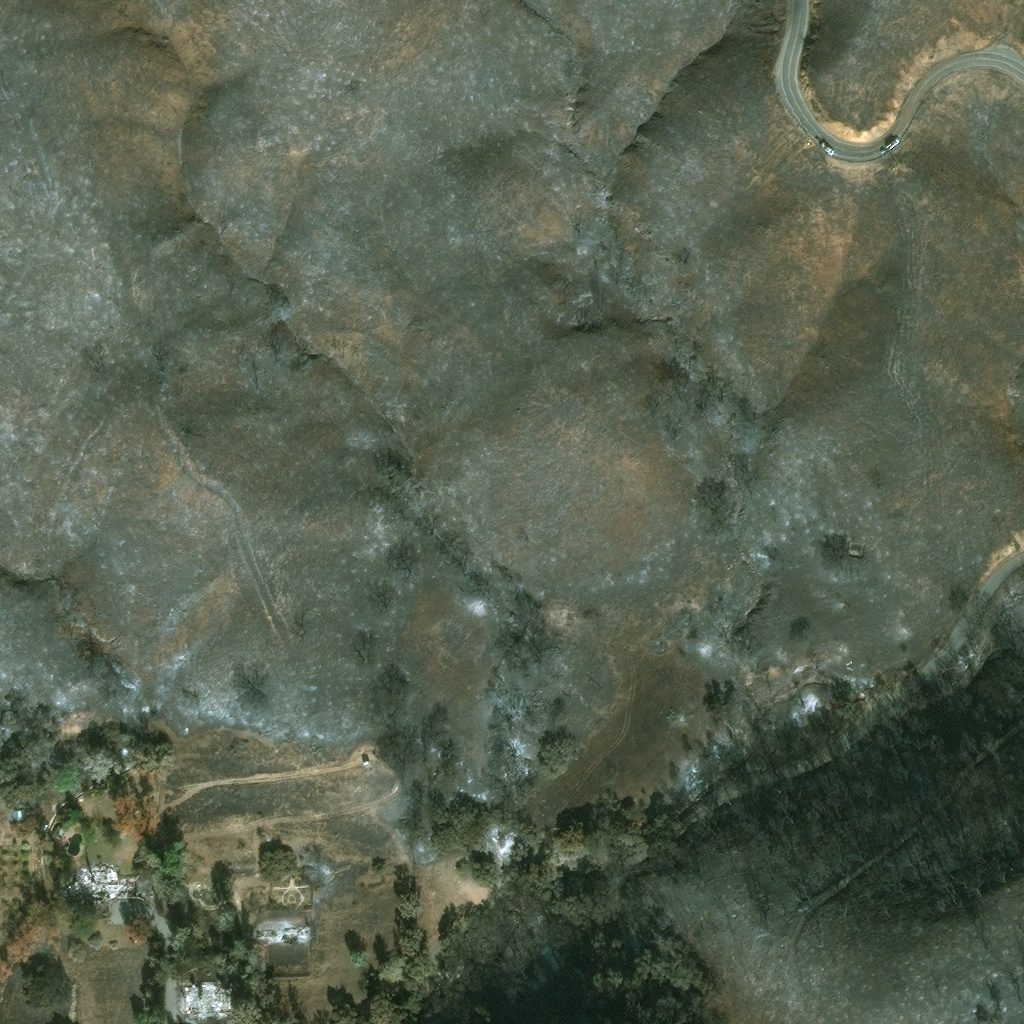0 no-damage: (51, 824, 65, 842), (11, 808, 24, 821)
3 destroyed: (64, 865, 132, 896), (185, 982, 230, 1012), (259, 926, 307, 940)
